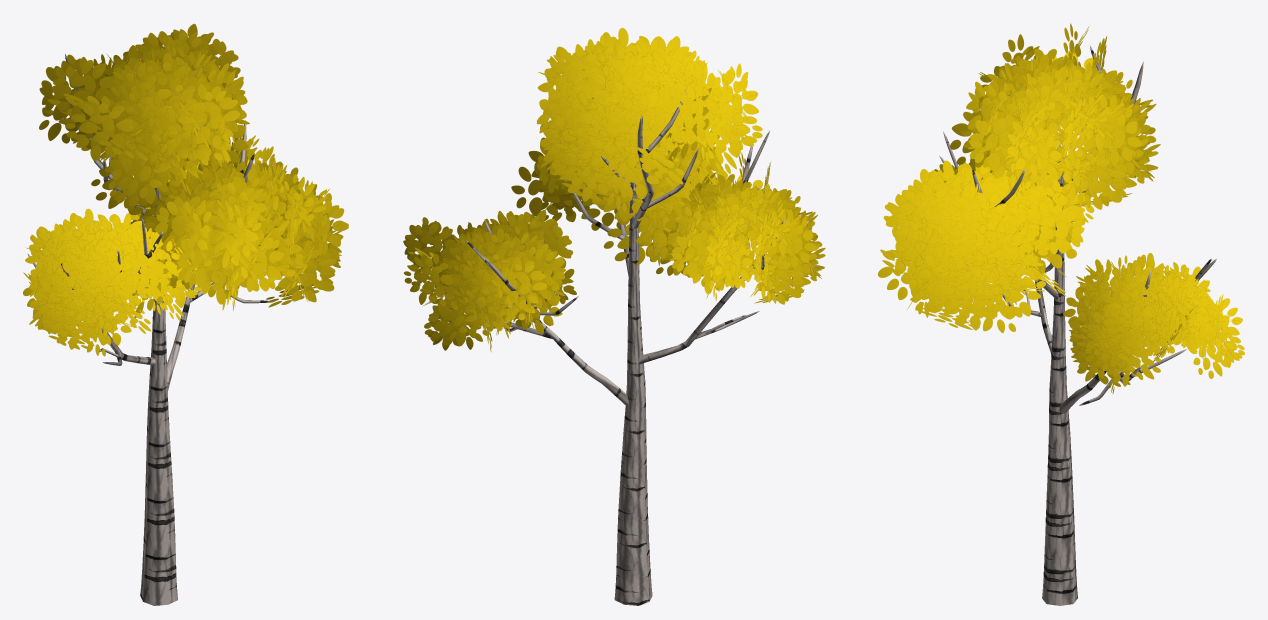
File: BirchTree_5.gltf
3 views of the same model, side by side, from view 1: azimuth 30°, elevation 25°; view 2: azimuth 150°, elevation 25°; view 3: azimuth 270°, elevation 25° (orthographic). The views are drawn at different scales.
Parts seen in each view (by area): view 1: BirchTree_5; view 2: BirchTree_5; view 3: BirchTree_5.
Boxes of the visible parts, box(x1,y1,x2,y2) form: BirchTree_5: box(23, 23, 348, 605); BirchTree_5: box(403, 28, 825, 605); BirchTree_5: box(878, 23, 1244, 605).
Size of the model in its own units: 3.58 by 5.52 by 3.51.
2 materials, 2 textured.
